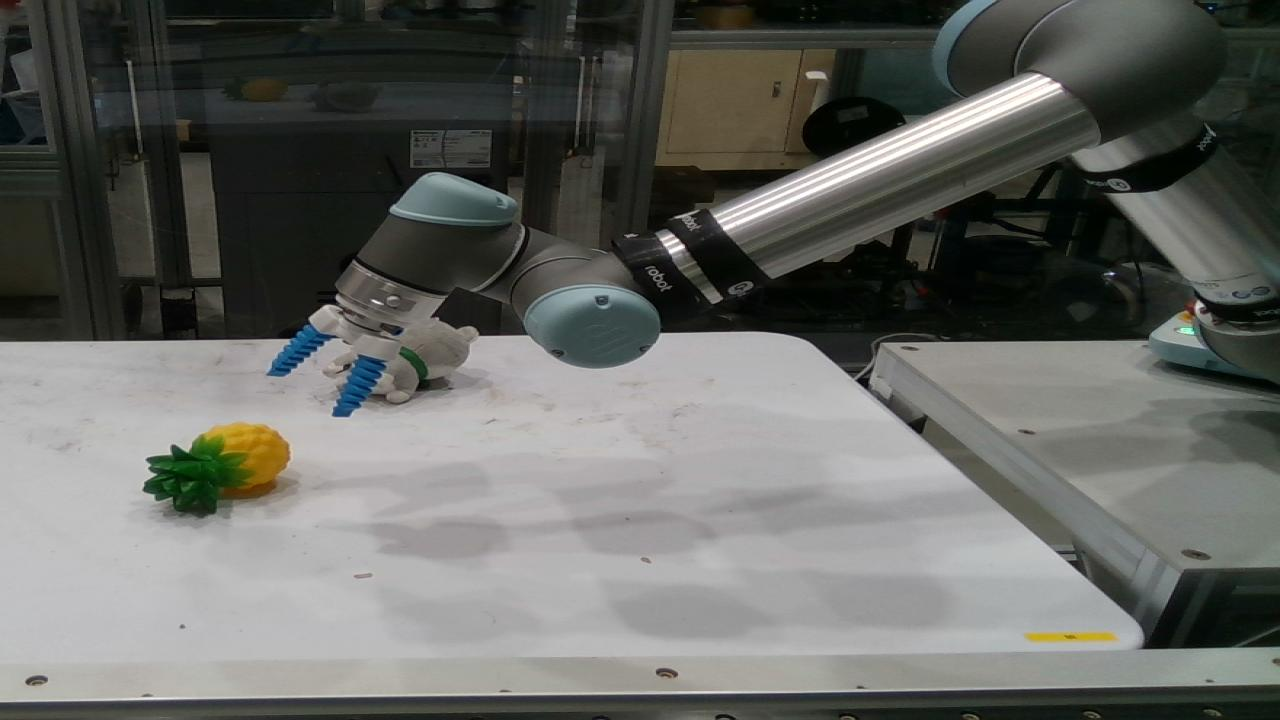UR5: (311, 0, 1279, 383)
gripper_left: (270, 325, 322, 377)
gripper_right: (334, 358, 380, 417)
target: (146, 424, 286, 514), (372, 317, 479, 403), (324, 353, 352, 379)
